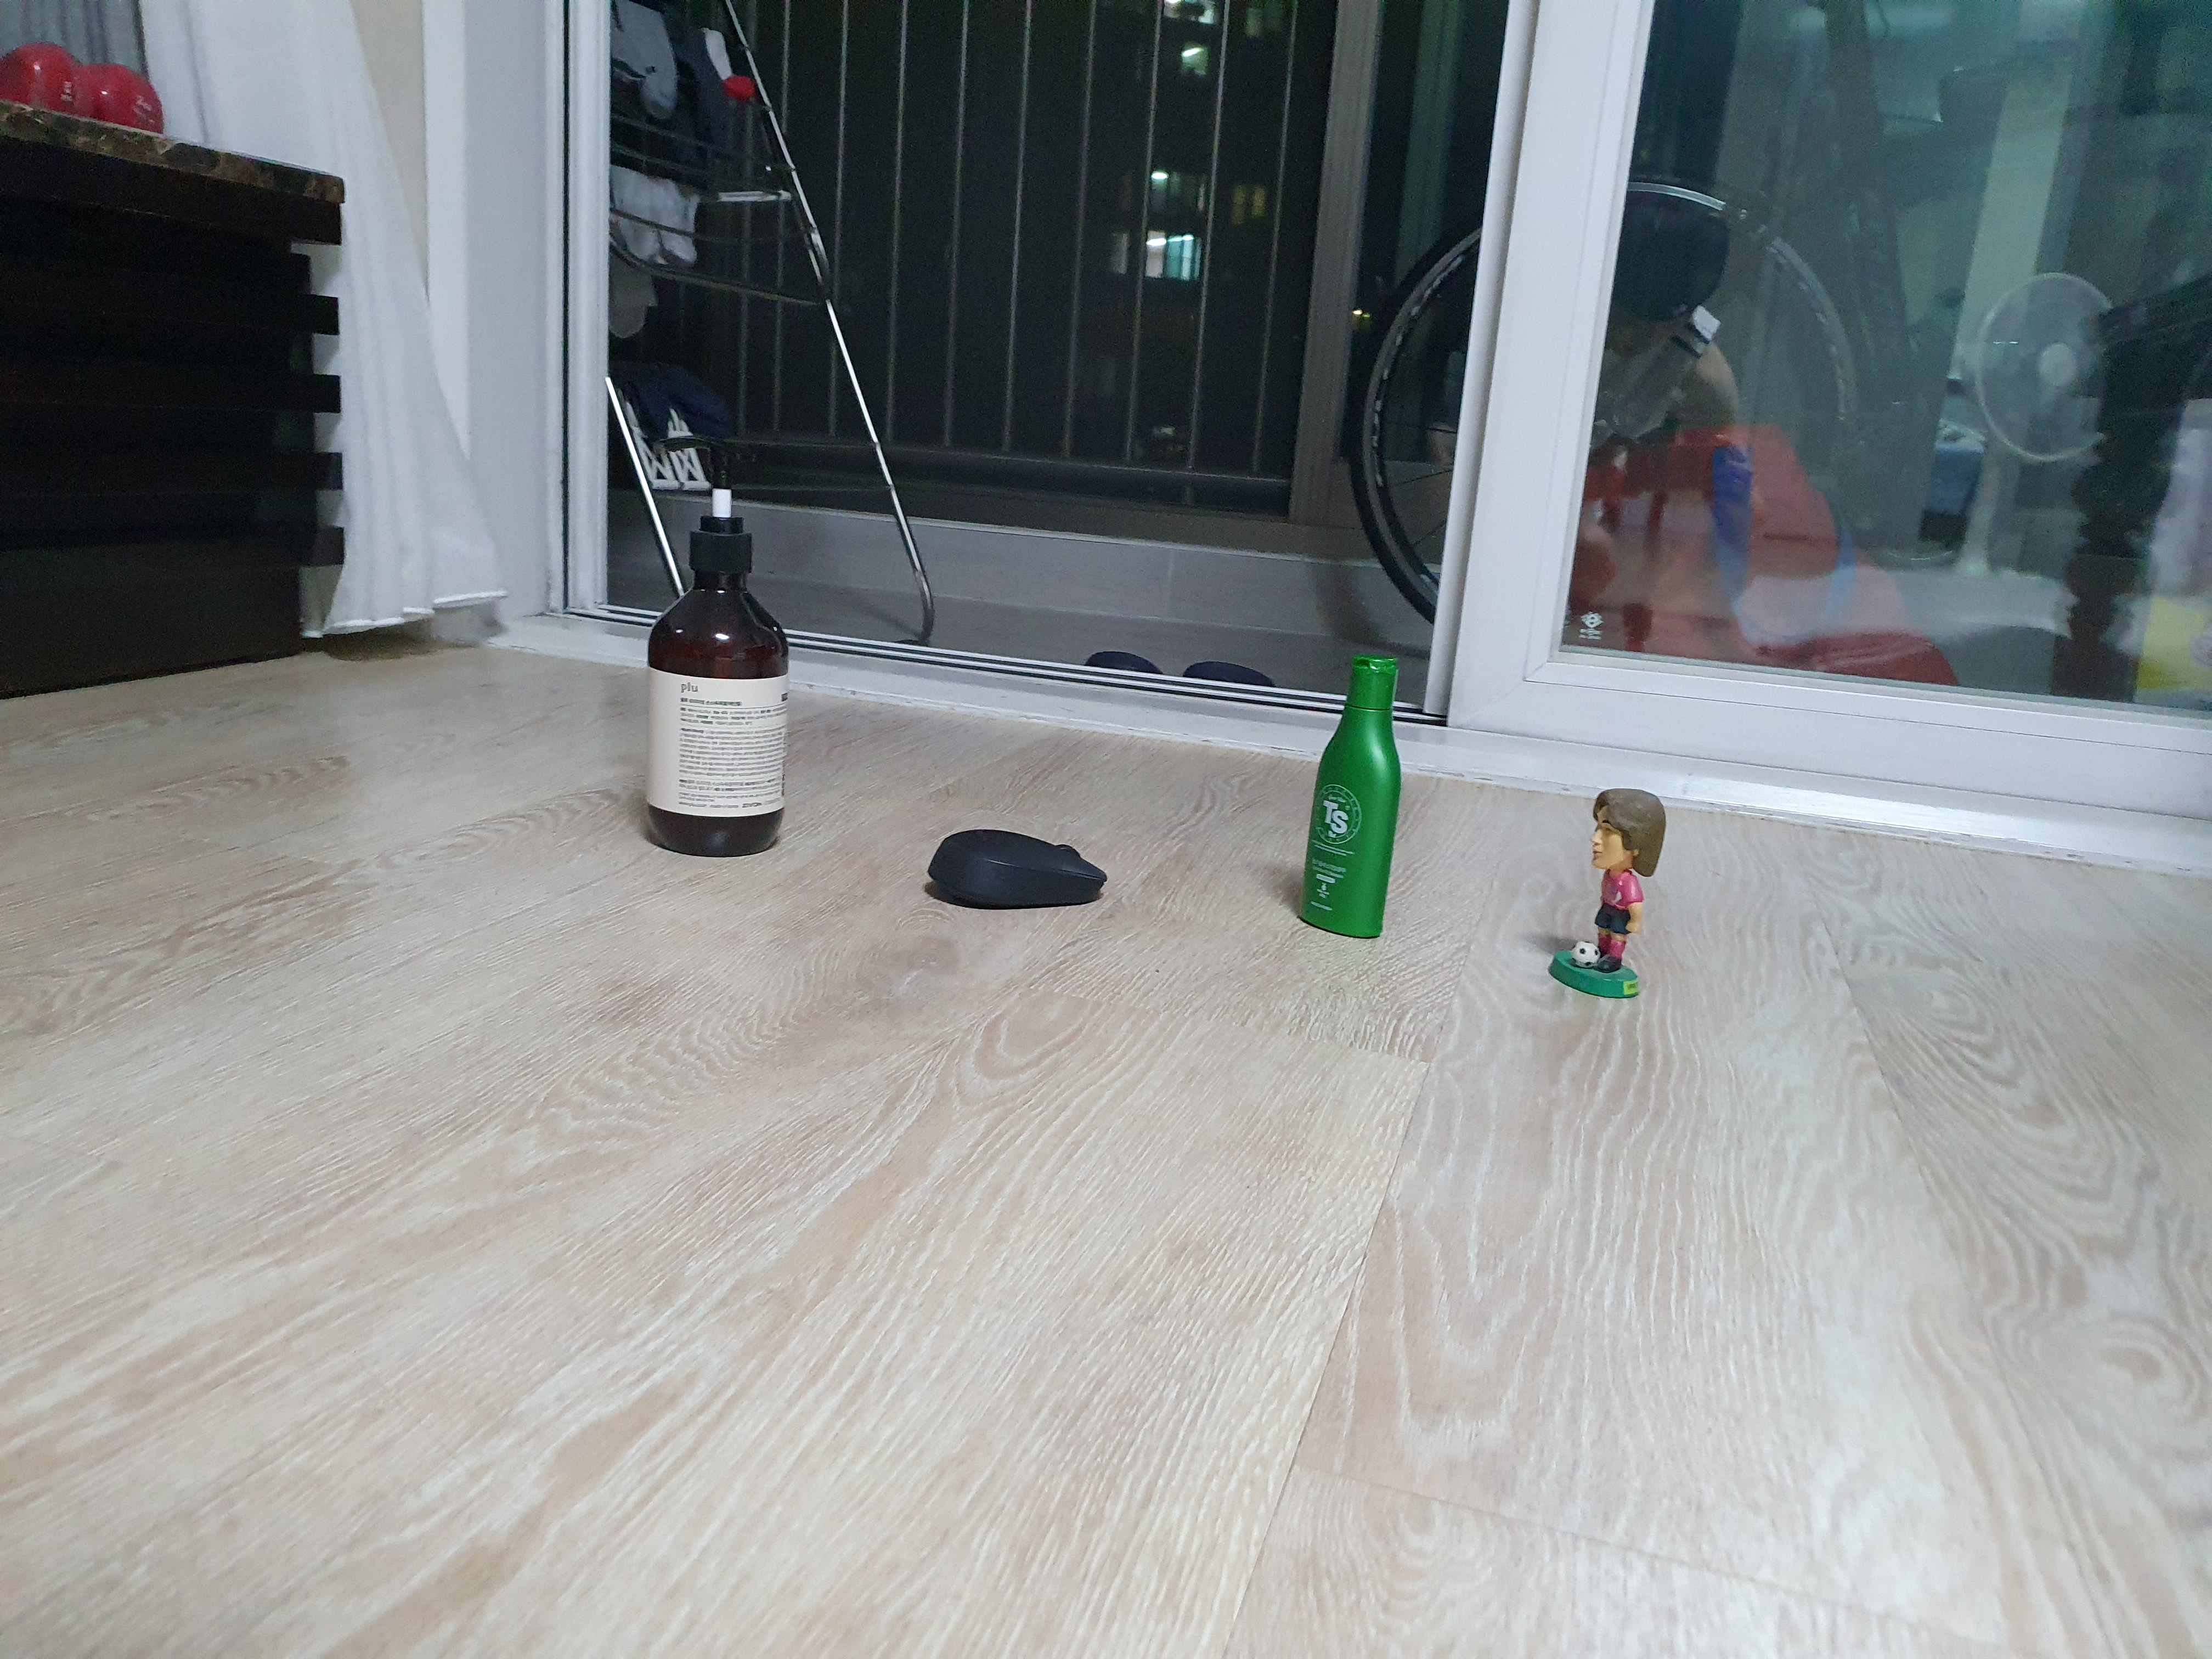bottle: (620, 415, 841, 915)
mouse: (916, 795, 1134, 941)
shampoo: (1273, 653, 1428, 955)
yoo: (1534, 777, 1691, 1042)
